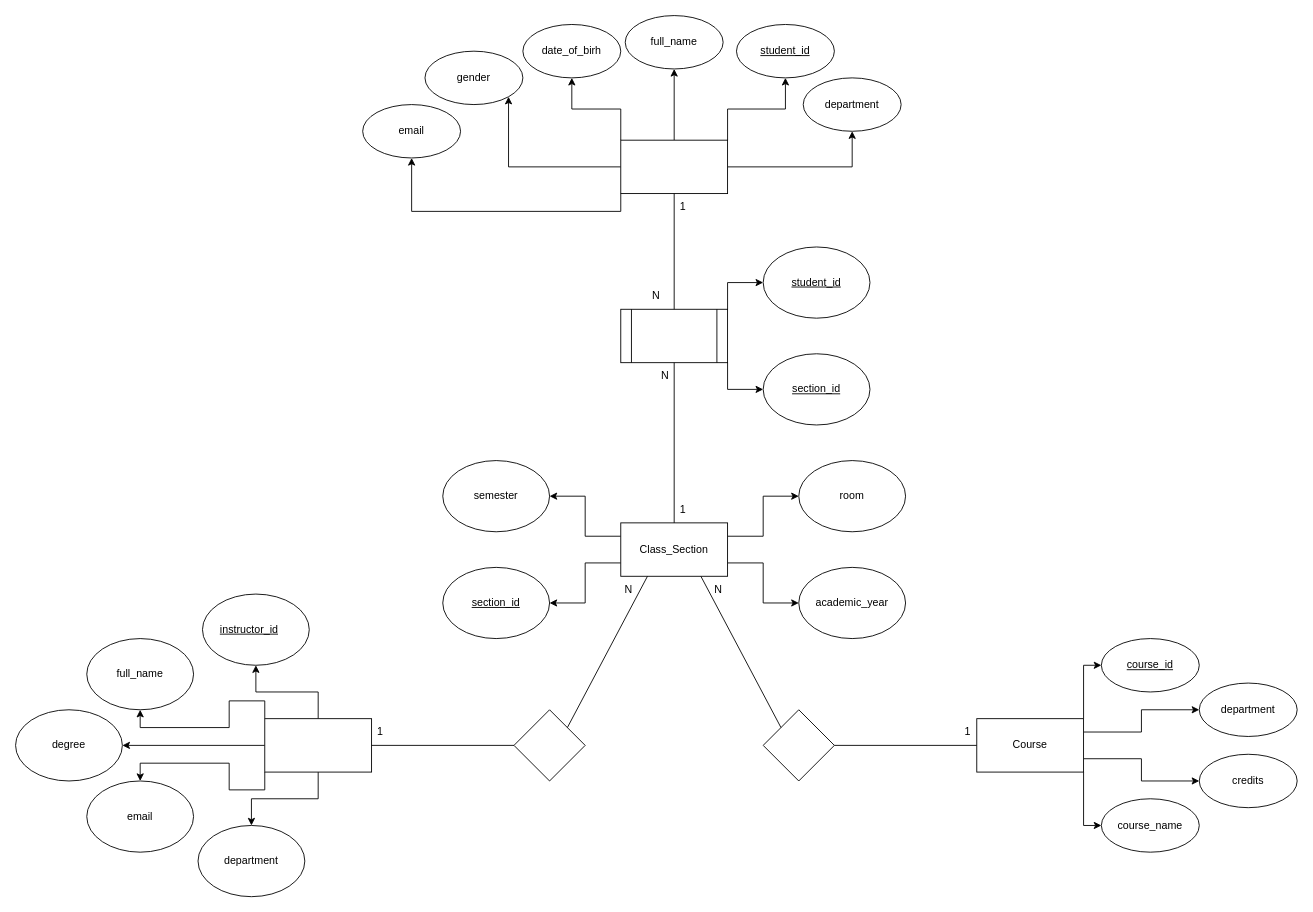
Image size: 1313x912. Some labels were removed from this diagram. Each missing label, with the centre of its shape:
Enrollment: the point at 674,335
have: the point at 798,745
Instructor: the point at 318,745
Student: the point at 674,166
Teach: the point at 549,745
